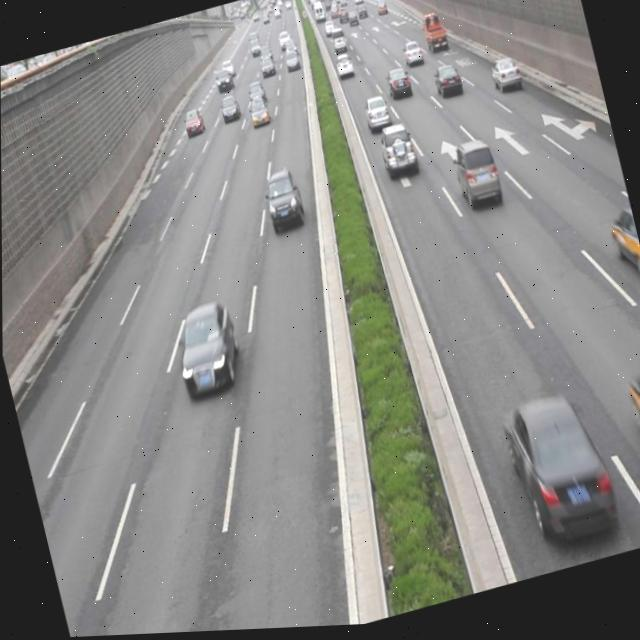car: (499, 388, 617, 544), (164, 301, 245, 402), (260, 170, 307, 237), (374, 122, 420, 186), (620, 358, 640, 486), (359, 94, 392, 139), (486, 57, 520, 98), (382, 65, 412, 105), (430, 65, 462, 102)
truck: (448, 139, 503, 218)
